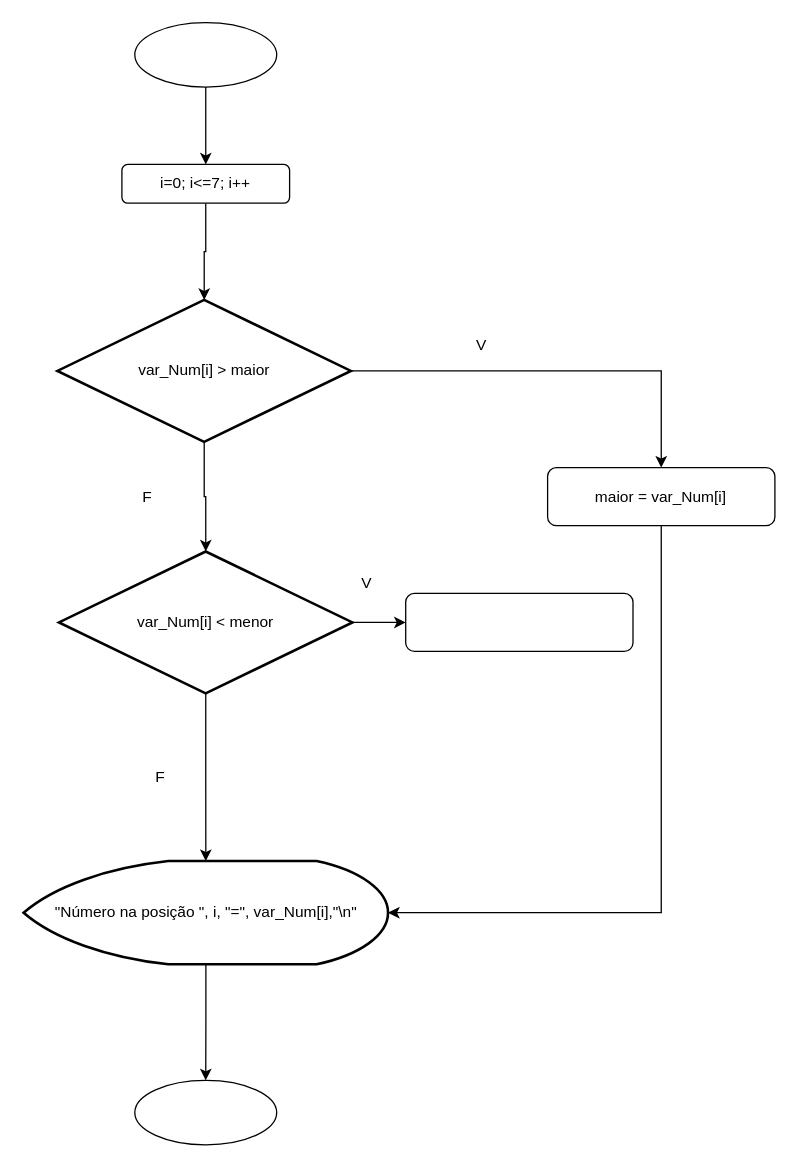
This 797x1167 diagram has some shape labels left out. The shapes that lost their labels are listed below. From the top down, each one's box as (x1, y1, x2, y2) in pixels, then its label:
(134, 21, 277, 87): INÍCIO
(404, 592, 633, 651): menor = var_Num[i]
(134, 1079, 277, 1145): FIM
